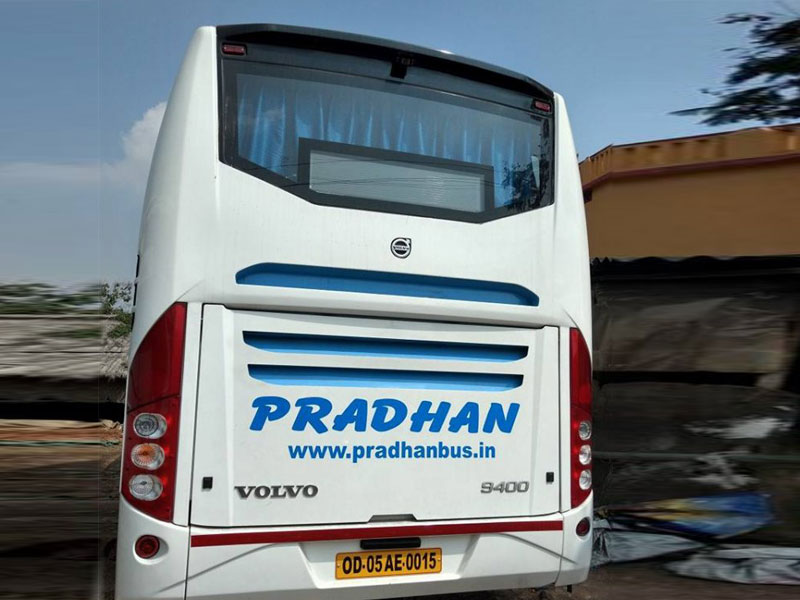bus: (128, 11, 613, 600)
